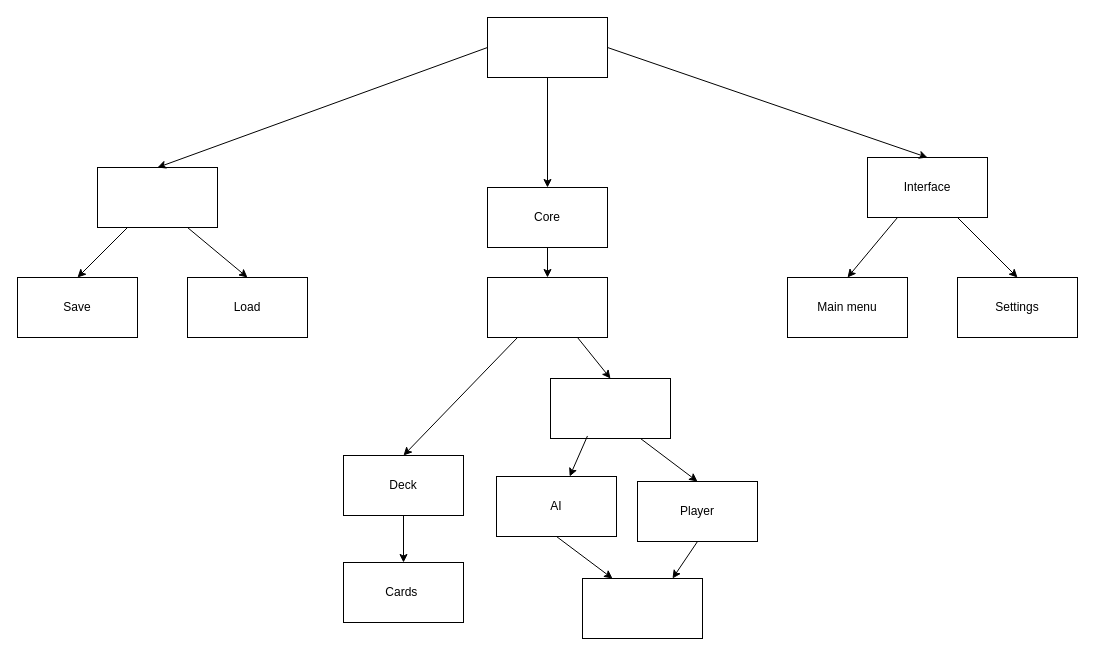
This 1095x656 diagram has some shape labels left out. The shapes that lost their labels are listed below. From the top down, each one's box as (x1, y1, x2, y2) in pixels, then its label:
(486, 16, 608, 78): GameEngine
(96, 166, 218, 228): Data storage
(486, 276, 608, 338): Combat Stage
(550, 378, 670, 438): Mode
(582, 578, 702, 638): Score
